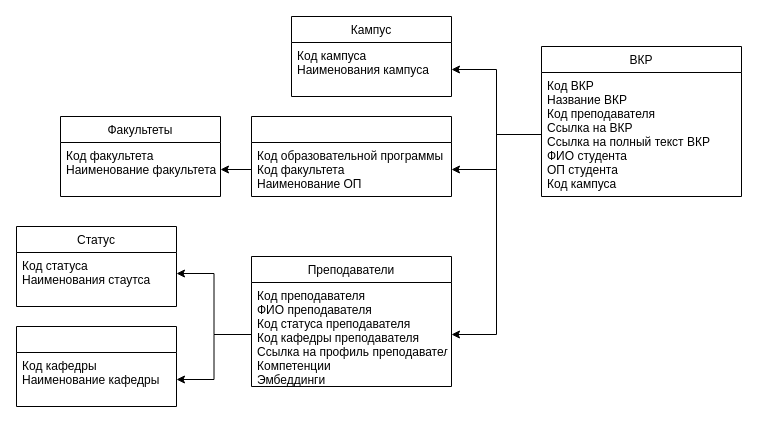
The diagram is 758 pixels wide and 423 high, and some of its shapes have lost their labels. The shapes that lost their labels are listed below. From the top down, each one's box as (x1, y1, x2, y2) in pixels, then its label:
(250, 116, 452, 196): Образовательная программа
(16, 326, 176, 406): Кафедра
